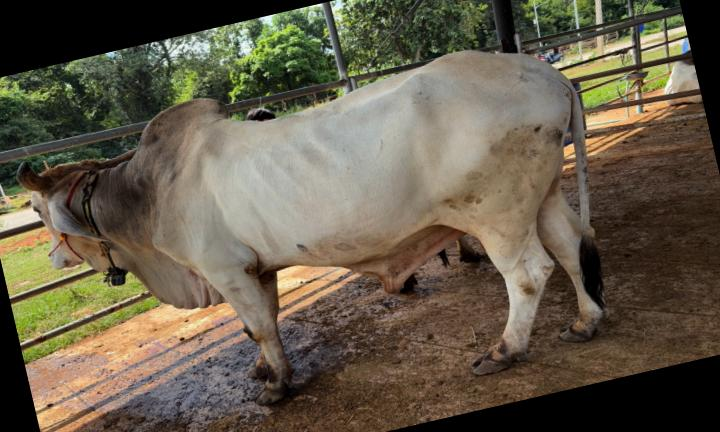Brahman: (18, 50, 608, 404)
